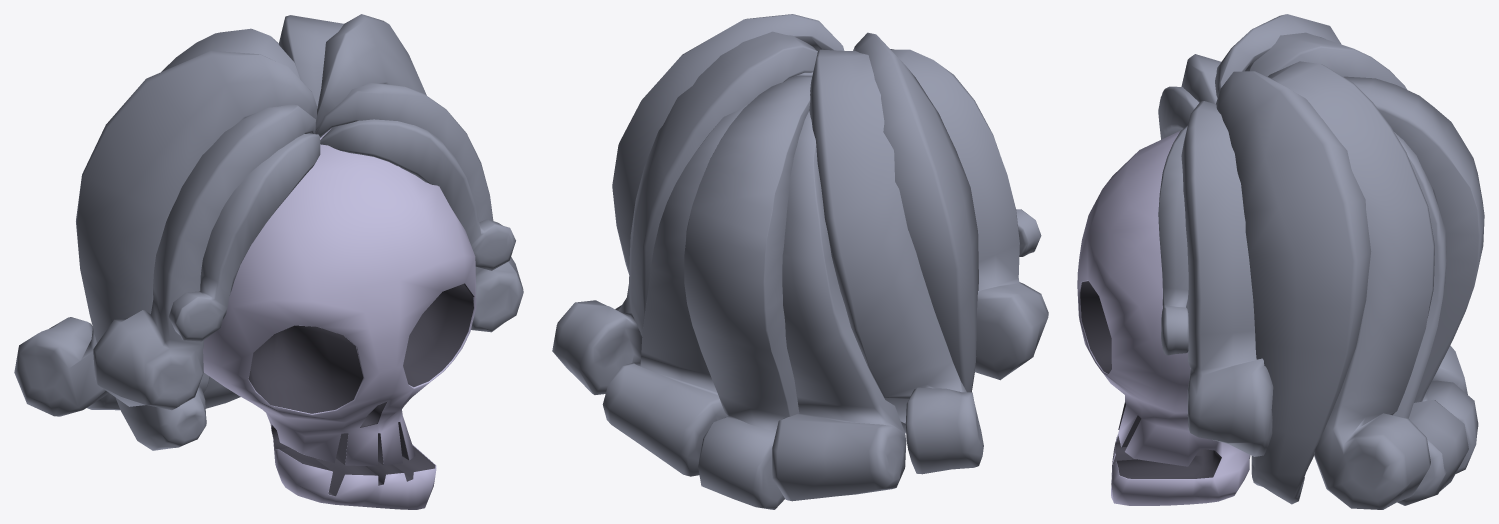
Rendered from Johnny_Head.fbx.
The picture shows the model from 3 angles, left to right: view 1: azimuth 30°, elevation 25°; view 2: azimuth 150°, elevation 25°; view 3: azimuth 270°, elevation 25°; orthographic projection. The views are drawn at different scales.
Visible parts, largest first — view 1: Head; view 2: Head; view 3: Head.
Part boxes in pixels (box(x1,y1,x2,y2)): Head: box(14, 14, 523, 509); Head: box(552, 14, 1048, 509); Head: box(1077, 14, 1484, 509).
Size of the model in its own units: 62.99 by 59.36 by 51.11.
